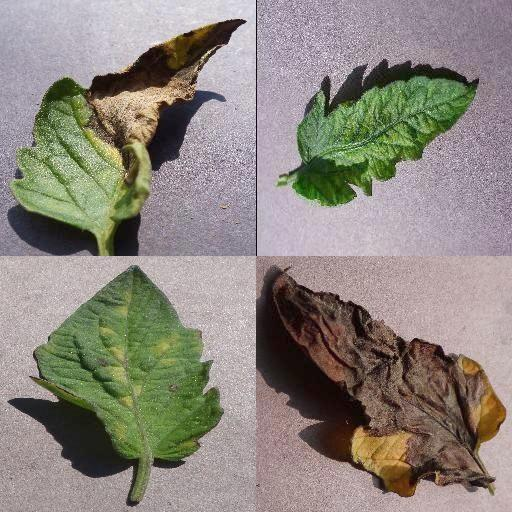Late Blight: (272, 264, 508, 498), (10, 17, 250, 231)
Leaf Mold: (25, 265, 223, 461)
Mosaic Virus: (292, 76, 478, 206)
